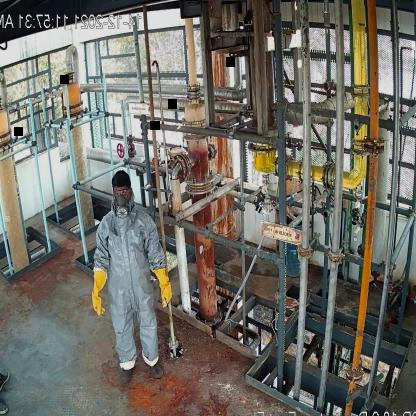goggles: (113, 188, 129, 199)
mask: (113, 196, 130, 221)
